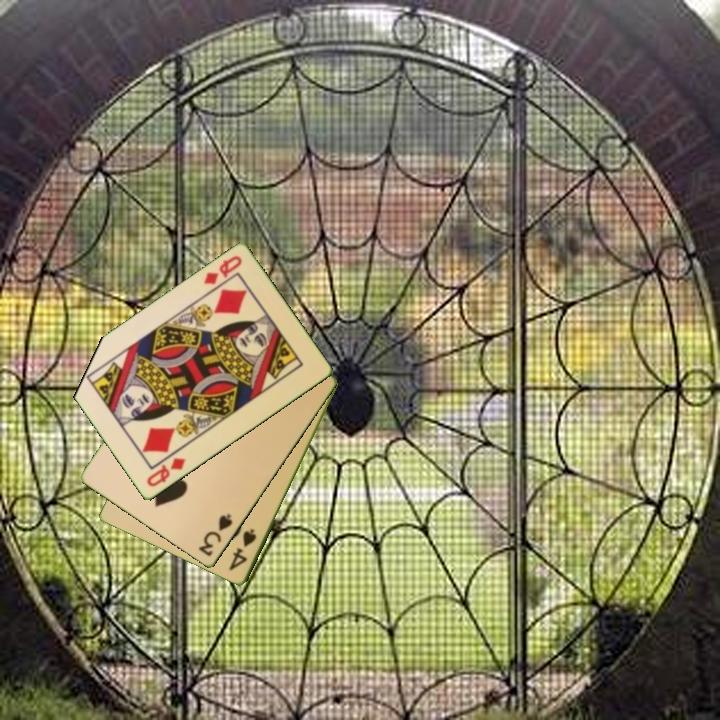3s: (195, 510, 235, 560)
4s: (226, 526, 260, 574)
Qd: (143, 454, 189, 490), (200, 252, 245, 288)
